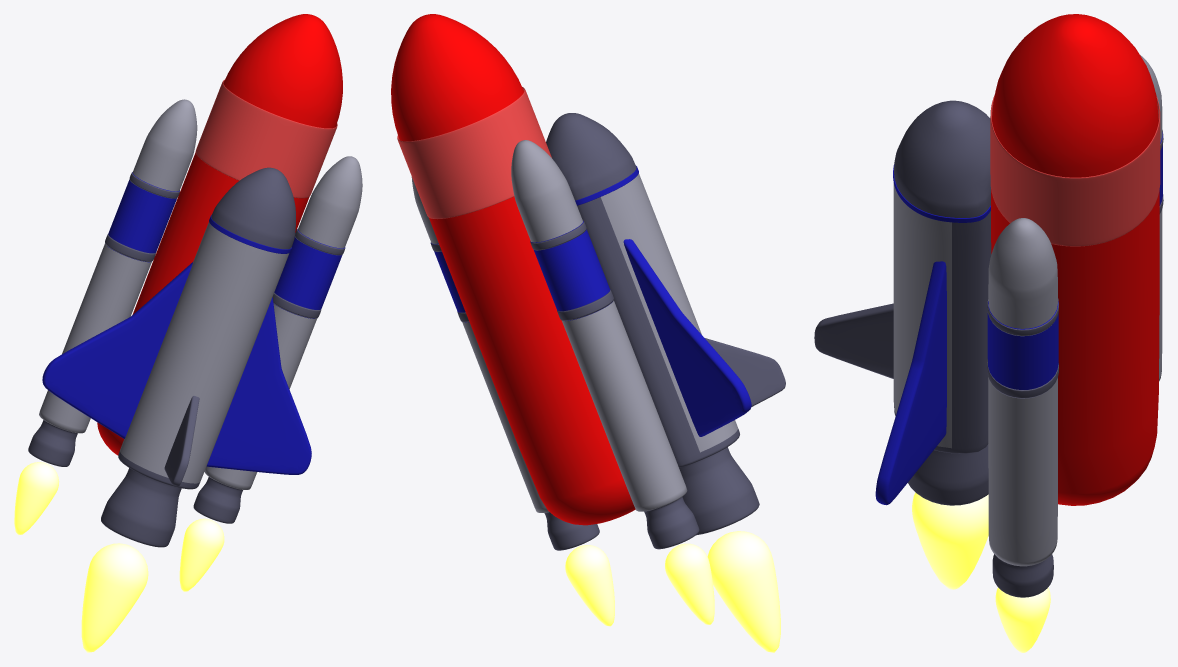
File: spaceShip.glb
3 renders of one model, left to right at view 1: azimuth 30°, elevation 25°; view 2: azimuth 150°, elevation 25°; view 3: azimuth 270°, elevation 25°, orthographic. The views are drawn at different scales.
Visible parts, largest first — view 1: Cylinder, Cylinder002, Cube, Cylinder001, Cylinder004, Cylinder005, Sphere, Sphere001, Cylinder006, Cube001; view 2: Cylinder001, Cylinder, Cylinder002, Cylinder004, Cube, Sphere, Sphere001, Cylinder005, Cube001, Cylinder006; view 3: Cylinder001, Cylinder, Cylinder002, Cylinder004, Cube, Sphere, Cylinder005, Cube001, Sphere001, Cylinder006, Cylinder003.
Boxes of the visible parts, x1,y1,x2,y2 form: Cylinder: (101,167,295,547); Cylinder002: (28,99,362,523); Cube: (42,262,311,474); Cylinder001: (97,14,342,455); Cylinder004: (195,79,337,198); Cylinder005: (107,172,345,318); Sphere: (81,543,148,652); Sphere001: (14,462,224,591); Cylinder006: (105,172,345,318); Cube001: (164,396,199,486); Cylinder001: (391,14,635,525); Cylinder: (546,113,759,535); Cylinder002: (411,140,699,550); Cylinder004: (397,87,551,218); Cube: (623,239,751,436); Sphere: (707,531,780,652); Sphere001: (565,543,714,626); Cylinder005: (431,221,612,322); Cube001: (705,338,785,406); Cylinder006: (430,220,613,322); Cylinder001: (991,14,1159,505); Cylinder: (893,100,991,505); Cylinder002: (988,55,1162,597); Cylinder004: (990,94,1160,246); Cube: (875,261,946,505); Sphere: (912,492,988,589); Cylinder005: (987,132,1162,389); Cube001: (814,303,893,378); Sphere001: (995,587,1050,652); Cylinder006: (987,130,1163,398); Cylinder003: (893,164,990,222).
Size of the model in its own units: 3.25 by 5.43 by 2.31.
